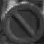No waiting: (2, 3, 40, 38)
